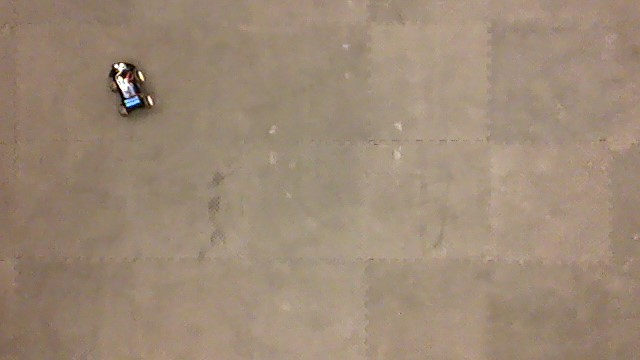Agent: (105, 60, 156, 118)
